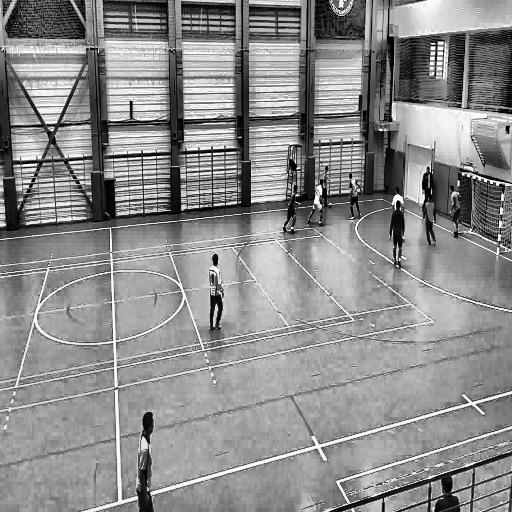ball: (328, 200, 334, 210)
player: (136, 409, 156, 512), (388, 200, 408, 271), (208, 252, 224, 334), (281, 183, 301, 236), (346, 168, 364, 222), (307, 178, 325, 229), (422, 193, 438, 249), (448, 180, 462, 242), (391, 184, 404, 241), (320, 164, 331, 207), (421, 164, 434, 199)
